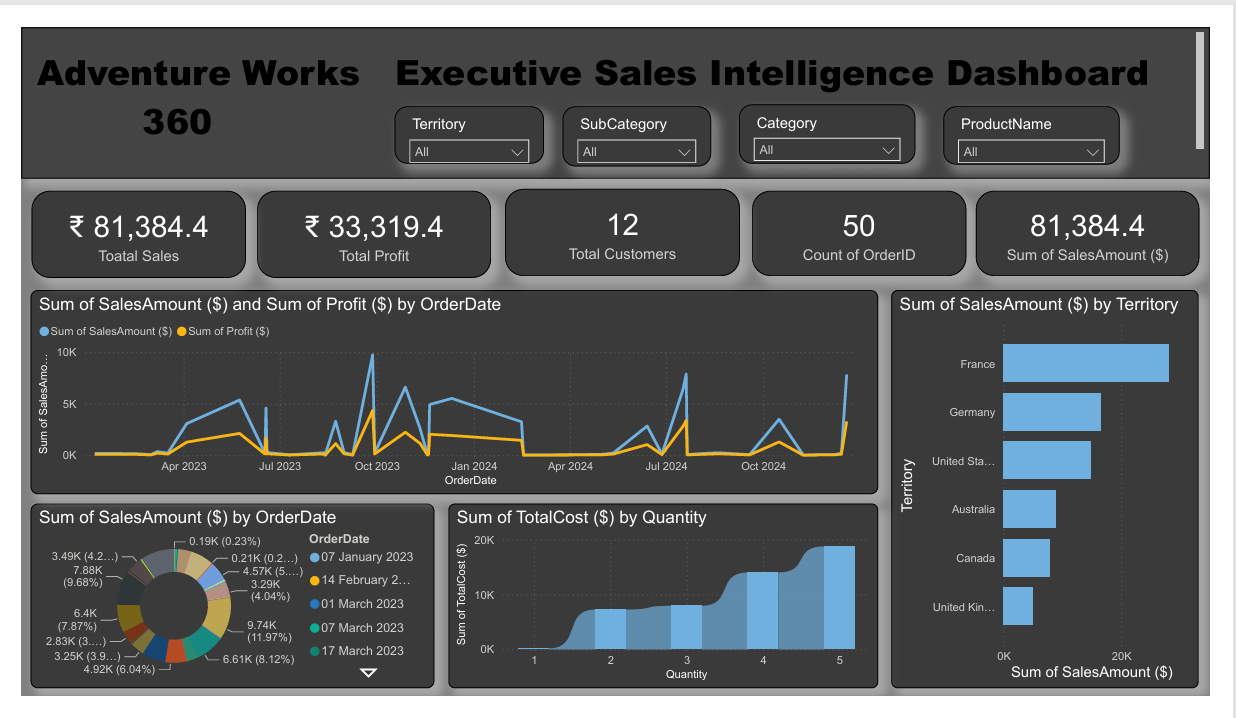

The dashboard page shown, as its layout file describes it:
{"tool":"powerbi","page":{"name":"Page 2","canvas":[1280,720],"ordinal":0},"visuals":[{"type":"textbox","box":[0,0,1280,163.3],"z":0},{"type":"donutChart","fields":{"Category":["Sales Data.OrderDate"],"Y":["Sum(Sales Data.SalesAmount ($))"]},"box":[10,513.3,435,198.3],"z":1000},{"type":"lineChart","fields":{"Category":["Sales Data.OrderDate"],"Y":["Sum(Sales Data.SalesAmount ($))","Sum(Sales Data.Profit ($))"]},"box":[10,283.3,913.3,220],"z":2000},{"type":"card","fields":{"Values":["Sales Data.Total Profit"]},"box":[254.4,175.6,251.4,93.9],"z":3000},{"type":"card","fields":{"Values":["Sales Data.Toatal Sales"]},"box":[10.6,175.6,231.7,93.9],"z":4000},{"type":"card","fields":{"Values":["Count(Sales Data.OrderID)"]},"box":[787.4,175.6,230.2,92.4],"z":5000},{"type":"card","fields":{"Values":["Sales Data.Total Customers"]},"box":[520.9,174.1,252.9,93.9],"z":6000},{"type":"card","fields":{"Values":["Sum(Sales Data.SalesAmount ($))"]},"box":[1028.1,175.6,240.8,92.4],"z":7000},{"type":"barChart","fields":{"Category":["Sales Data.Territory"],"Y":["Sum(Sales Data.SalesAmount ($))"]},"box":[936.7,283.3,331.7,428.3],"z":8000},{"type":"ribbonChart","fields":{"Category":["Sales Data.Quantity"],"Y":["Sum(Sales Data.TotalCost ($))"]},"box":[460,513.3,463.3,198.3],"z":9000},{"type":"slicer","fields":{"Values":["Sales Data.Territory"]},"box":[401.7,85,161.7,61.7],"z":10000},{"type":"slicer","fields":{"Values":["Sales Data.SubCategory"]},"box":[583.3,85,160,65],"z":11000},{"type":"slicer","fields":{"Values":["Sales Data.Category"]},"box":[773.3,83.3,190,63.3],"z":12000},{"type":"slicer","fields":{"Values":["Sales Data.ProductName"]},"box":[993.3,85,190,63.3],"z":13000}]}

Visuals, with their boxes on the page's 1280x720 design canvas (x1, y1, x2, y2). These are canvas units, not pixel positions in the 1236x718 screenshot, which may show the page scaled, cropped or inside an application window:
textbox: box(0, 0, 1280, 163)
donutChart - Sales Data.OrderDate x Sum(Sales Data.SalesAmount ($)): box(10, 513, 445, 712)
lineChart - Sales Data.OrderDate x Sum(Sales Data.SalesAmount ($)): box(10, 283, 923, 503)
card - Sales Data.Total Profit: box(254, 176, 506, 270)
card - Sales Data.Toatal Sales: box(11, 176, 242, 270)
card - Count(Sales Data.OrderID): box(787, 176, 1018, 268)
card - Sales Data.Total Customers: box(521, 174, 774, 268)
card - Sum(Sales Data.SalesAmount ($)): box(1028, 176, 1269, 268)
barChart - Sales Data.Territory x Sum(Sales Data.SalesAmount ($)): box(937, 283, 1268, 712)
ribbonChart - Sales Data.Quantity x Sum(Sales Data.TotalCost ($)): box(460, 513, 923, 712)
slicer - Sales Data.Territory: box(402, 85, 563, 147)
slicer - Sales Data.SubCategory: box(583, 85, 743, 150)
slicer - Sales Data.Category: box(773, 83, 963, 147)
slicer - Sales Data.ProductName: box(993, 85, 1183, 148)
